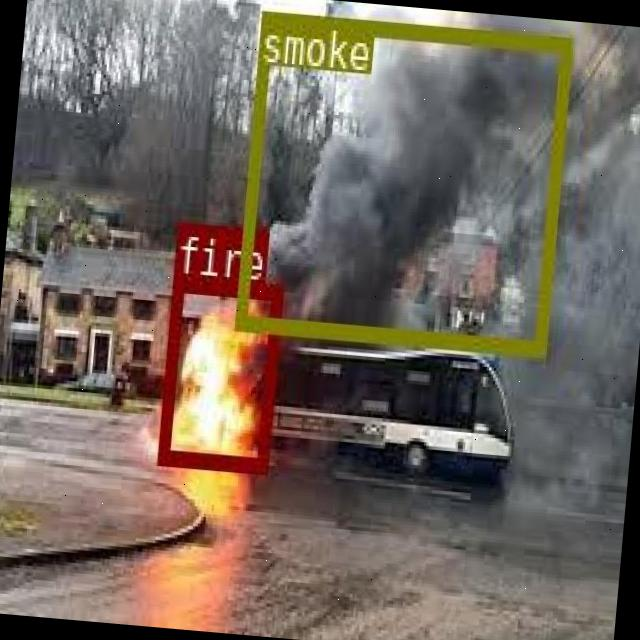fire: (156, 273, 282, 471)
smoke: (232, 9, 570, 354)
